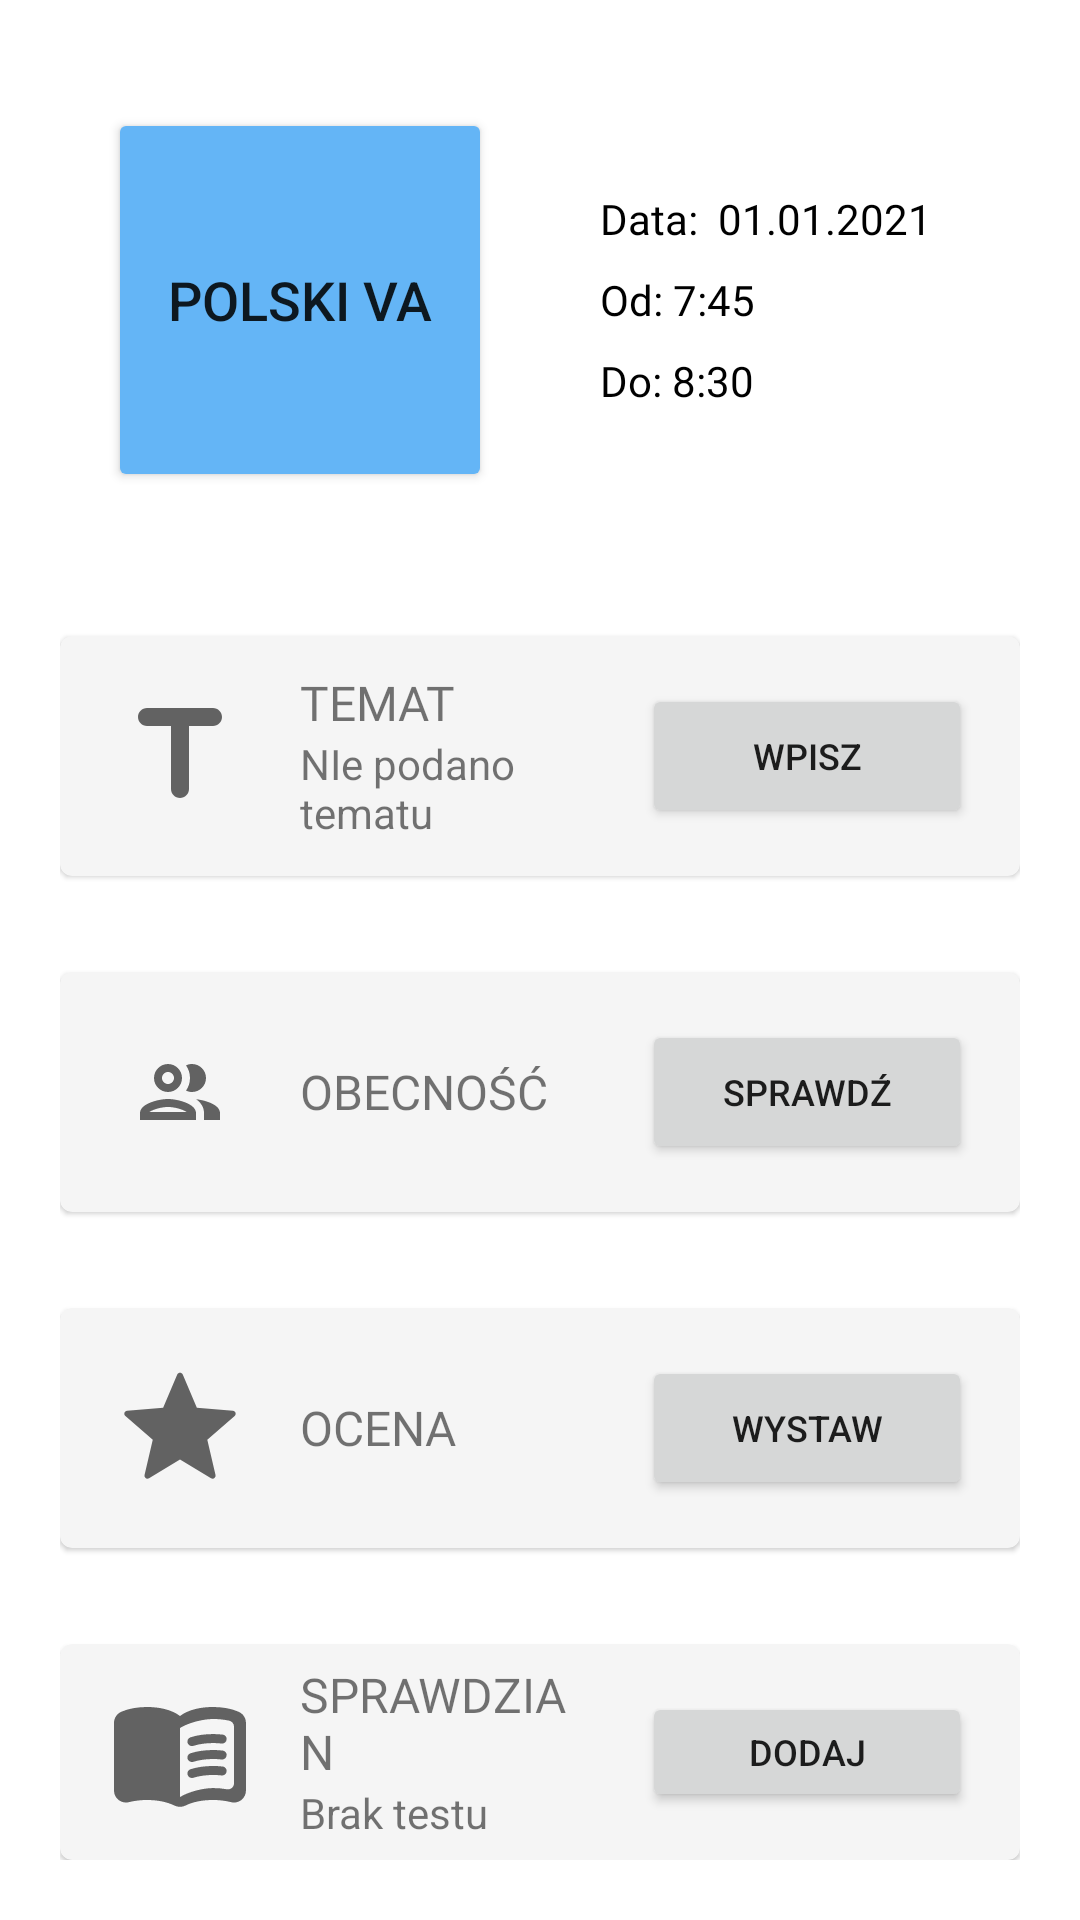

Screen size 1080×1920. Icon name, then its center in pixels as [x,y]:
book: [180,1757]
grade: [180,1425]
people: [180,1092]
title: [180,753]
